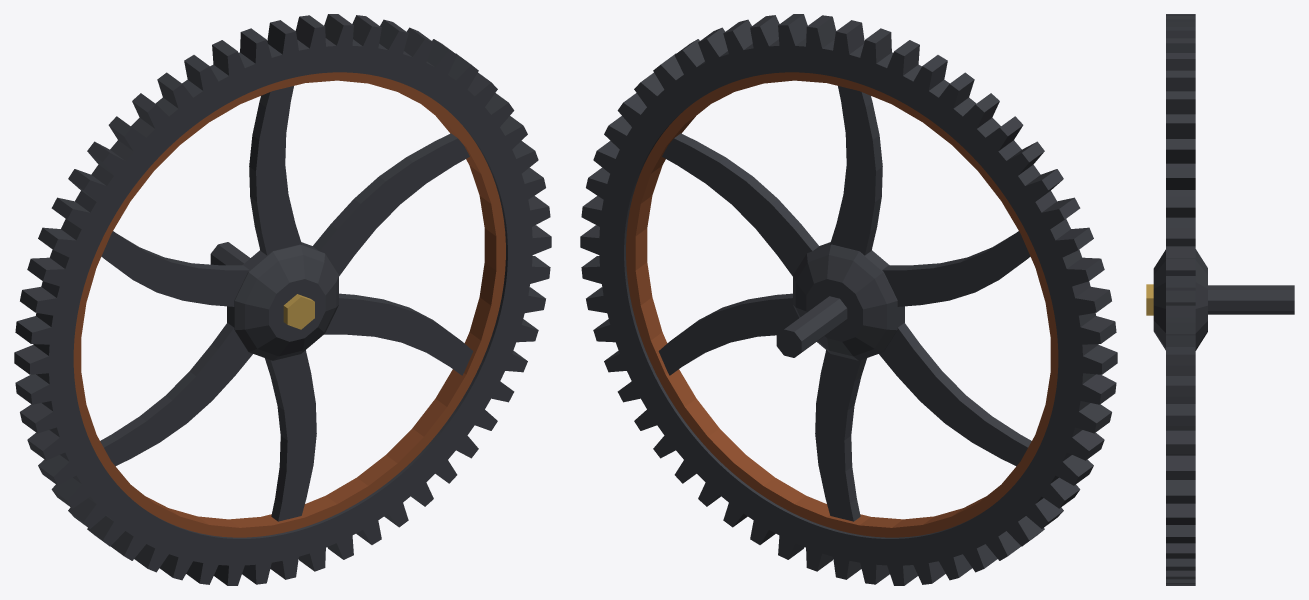
The model's file is gear_flywheel.fbx.
3 renders of one model, left to right at view 1: azimuth 30°, elevation 25°; view 2: azimuth 150°, elevation 25°; view 3: azimuth 270°, elevation 25°, orthographic. The views are drawn at different scales.
Parts seen in each view (by area): view 1: Gear_Deco_Flywheel_Rim, Gear_Deco_Flywheel_Spokes, Gear_Deco_Flywheel_RimLip, Gear_Deco_Flywheel_Hub; view 2: Gear_Deco_Flywheel_Rim, Gear_Deco_Flywheel_Spokes, Gear_Deco_Flywheel_RimLip, Gear_Deco_Flywheel_Hub; view 3: Gear_Deco_Flywheel_Rim, Gear_Deco_Flywheel_Hub.
Boxes of the visible parts, x1,y1,x2,y2 form: Gear_Deco_Flywheel_Rim: (14, 14, 551, 585); Gear_Deco_Flywheel_Spokes: (100, 86, 473, 521); Gear_Deco_Flywheel_RimLip: (73, 72, 505, 537); Gear_Deco_Flywheel_Hub: (210, 242, 338, 360); Gear_Deco_Flywheel_Rim: (580, 14, 1117, 585); Gear_Deco_Flywheel_Spokes: (658, 86, 1031, 521); Gear_Deco_Flywheel_RimLip: (626, 72, 1058, 537); Gear_Deco_Flywheel_Hub: (776, 242, 904, 360); Gear_Deco_Flywheel_Rim: (1166, 14, 1195, 585); Gear_Deco_Flywheel_Hub: (1146, 249, 1294, 350).
Bounding box in the file's own units: 232 × 232 × 60.
